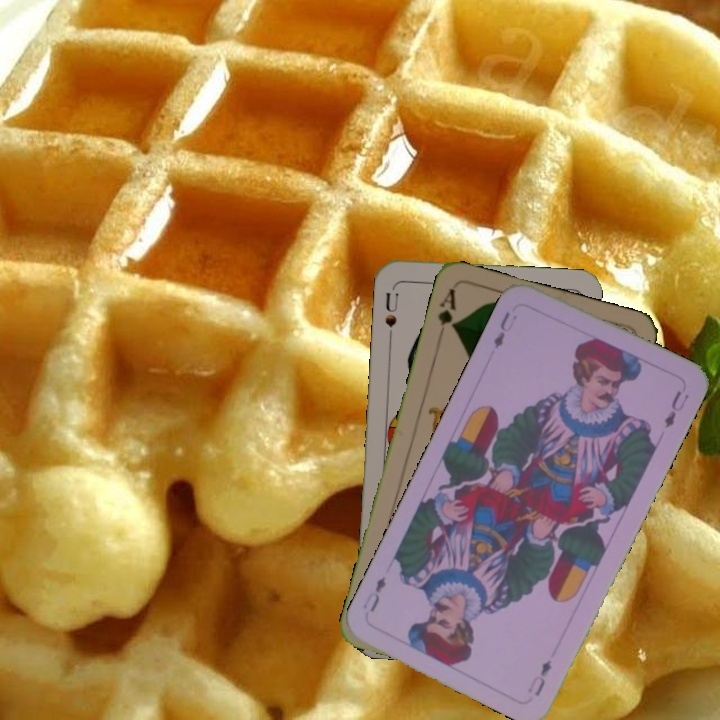EU: (523, 655, 555, 699), (489, 307, 520, 352)
GA: (433, 284, 459, 342)
SU: (381, 283, 401, 342)
